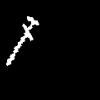double_crochet: (6, 17, 38, 65)
